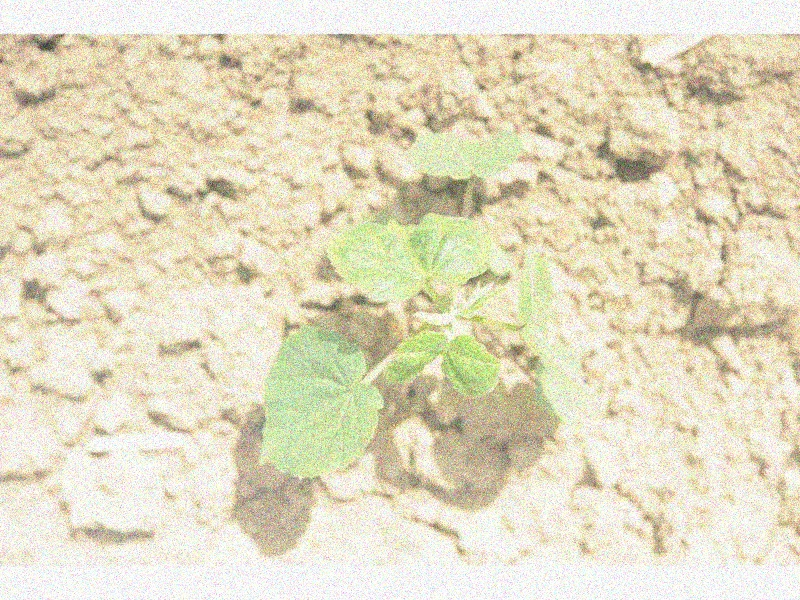velvet: (260, 126, 586, 479)
